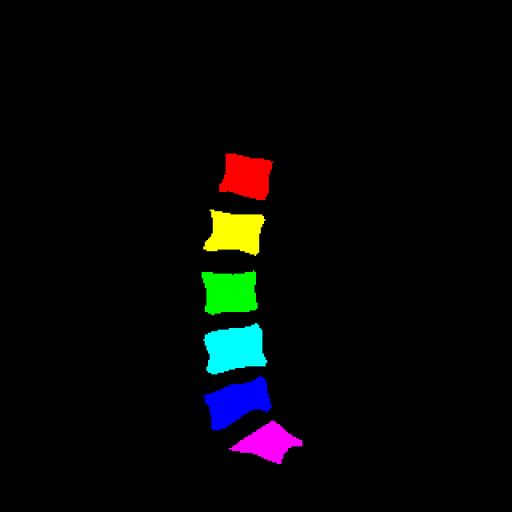L1: (219, 154, 273, 200)
L2: (203, 210, 265, 255)
L3: (202, 271, 258, 315)
L4: (204, 323, 267, 374)
L5: (204, 376, 272, 430)
S1: (230, 421, 302, 464)
